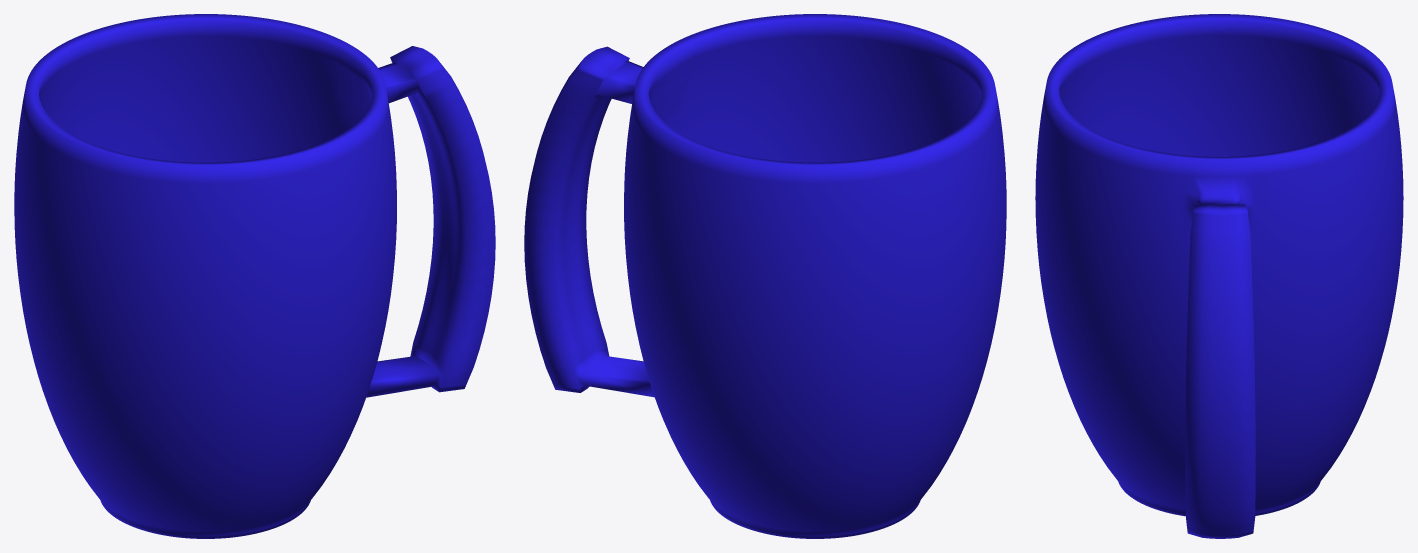
The model's file is cup.glb.
The picture shows the model from 3 angles, left to right: view 1: azimuth 30°, elevation 25°; view 2: azimuth 150°, elevation 25°; view 3: azimuth 270°, elevation 25°; orthographic projection. The views are drawn at different scales.
Visible parts, largest first — view 1: Cup; view 2: Cup; view 3: Cup.
Part boxes in pixels (bbox=[...]): Cup: bbox=[14, 14, 495, 538]; Cup: bbox=[524, 14, 1006, 538]; Cup: bbox=[1035, 14, 1403, 538].
Bounding box in the file's own units: 0.7715 × 0.6671 × 0.573.
